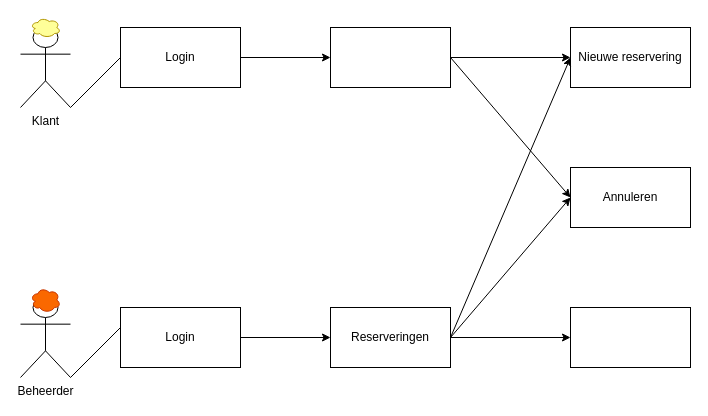
Image size: 708x416. Some labels were removed from this diagram. Each missing label, with the box of its shape:
Reservering aanvragen/annuleren: (330, 26, 450, 88)
Wijzigen: (570, 306, 690, 368)
